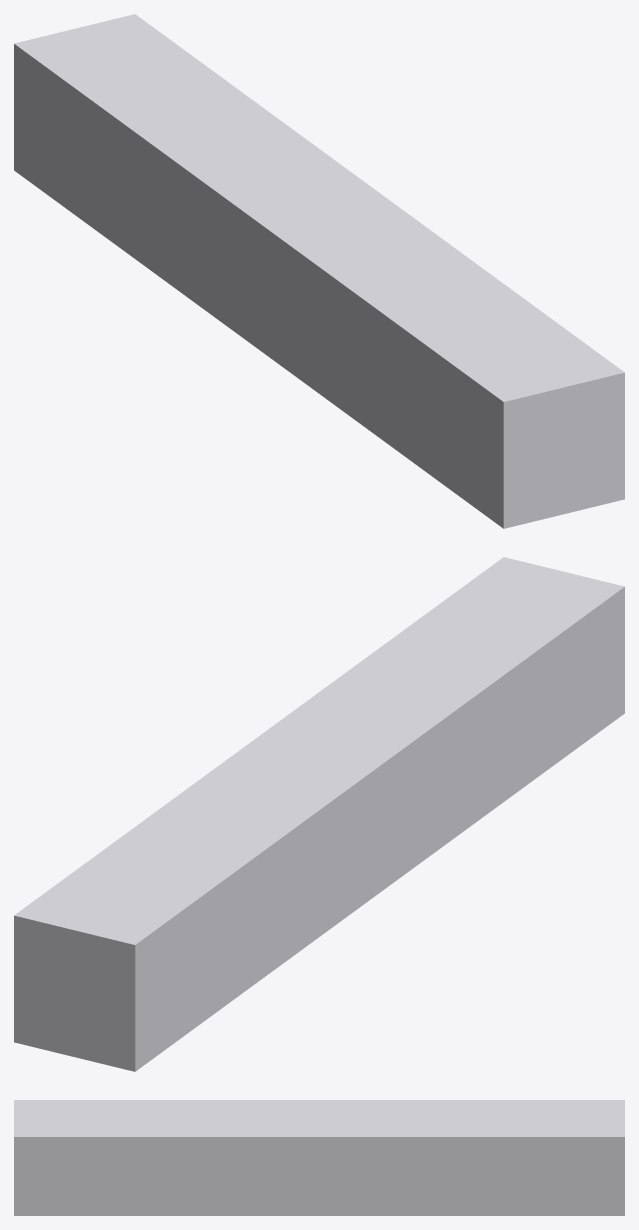
The model's file is old_level_2.obj.
3 renders of one model, top to bottom at view 1: azimuth 30°, elevation 25°; view 2: azimuth 150°, elevation 25°; view 3: azimuth 270°, elevation 25°, orthographic. The views are drawn at different scales.
Visible parts, largest first — view 1: entity0_brush0, entity0_brush7, entity0_brush41, entity0_brush8, entity0_brush30, entity0_brush37, entity0_brush38, entity0_brush42, entity0_brush14, entity0_brush22, entity0_brush26, entity0_brush33 (+44 smaller); view 2: entity0_brush28, entity0_brush9, entity0_brush35, entity0_brush2, entity0_brush8, entity0_brush13, entity0_brush14, entity0_brush42, entity0_brush4, entity0_brush5, entity0_brush17, entity0_brush26 (+44 smaller); view 3: entity0_brush2, entity0_brush3, entity0_brush4, entity0_brush5, entity0_brush6, entity0_brush7, entity0_brush8, entity0_brush11, entity0_brush12, entity0_brush17, entity0_brush18, entity0_brush19 (+44 smaller).
Boxes of the visible parts, x1,y1,x2,y2 form: entity0_brush0: (495, 366, 624, 528); entity0_brush7: (433, 321, 563, 483); entity0_brush41: (127, 97, 256, 259); entity0_brush8: (372, 276, 501, 438); entity0_brush30: (31, 27, 160, 189); entity0_brush37: (92, 71, 221, 233); entity0_brush38: (101, 78, 230, 240); entity0_brush42: (136, 103, 265, 265); entity0_brush14: (407, 302, 536, 464); entity0_brush22: (337, 251, 466, 413); entity0_brush26: (302, 225, 431, 387); entity0_brush33: (57, 46, 187, 208); entity0_brush28: (14, 909, 143, 1071); entity0_brush9: (382, 640, 511, 802); entity0_brush35: (75, 864, 205, 1026); entity0_brush2: (478, 570, 607, 732); entity0_brush8: (373, 646, 502, 808); entity0_brush13: (417, 614, 546, 776); entity0_brush14: (408, 621, 537, 783); entity0_brush42: (137, 819, 266, 981); entity0_brush4: (443, 595, 572, 757); entity0_brush5: (451, 589, 581, 751); entity0_brush17: (276, 717, 406, 879); entity0_brush26: (303, 698, 432, 860); entity0_brush2: (35, 1100, 46, 1215); entity0_brush3: (46, 1100, 57, 1215); entity0_brush4: (79, 1100, 90, 1215); entity0_brush5: (68, 1100, 79, 1215); entity0_brush6: (57, 1100, 68, 1215); entity0_brush7: (90, 1100, 101, 1215); entity0_brush8: (166, 1100, 177, 1215); entity0_brush11: (177, 1100, 188, 1215); entity0_brush12: (101, 1100, 112, 1215); entity0_brush17: (286, 1100, 297, 1215); entity0_brush18: (297, 1100, 308, 1215); entity0_brush19: (308, 1100, 319, 1215).
Bounding box in the file's own units: 128 × 128 × 896.
